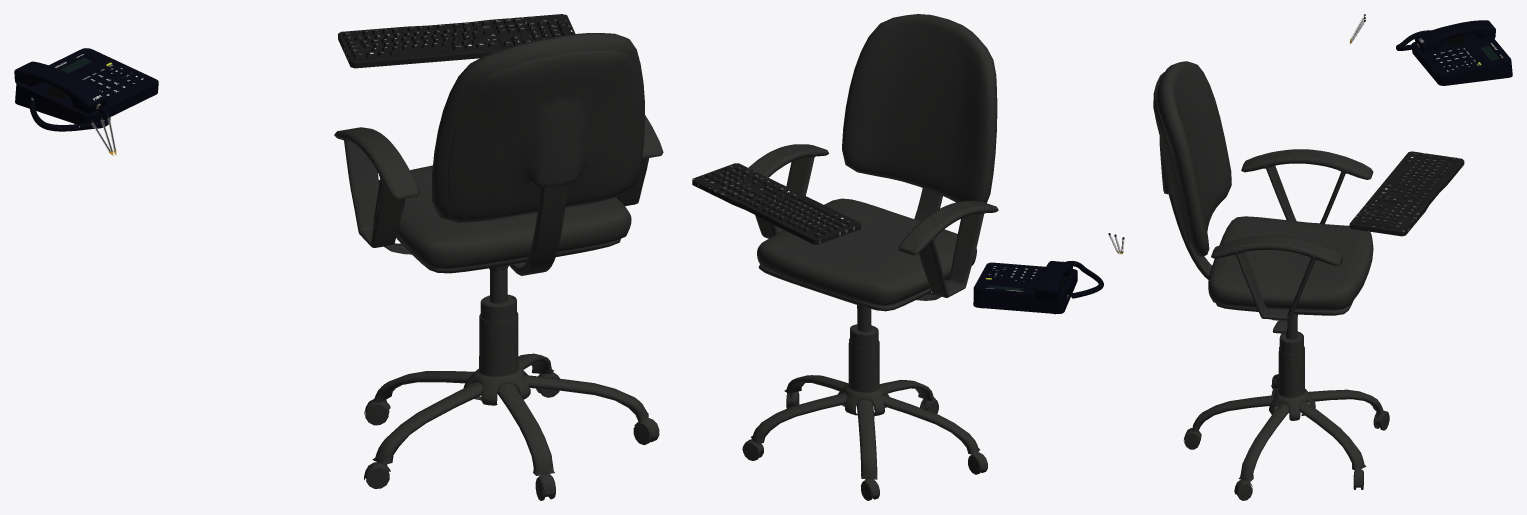
Rendered from postazioniparte7.gltf.
3 renders of one model, left to right at view 1: azimuth 30°, elevation 25°; view 2: azimuth 150°, elevation 25°; view 3: azimuth 270°, elevation 25°, orthographic. The views are drawn at different scales.
Parts seen in each view (by area): view 1: Lorenzo Sedia, Lorenzo Telefono, Lorenzo Tastiera; view 2: Lorenzo Sedia, Lorenzo Tastiera, Lorenzo Telefono; view 3: Lorenzo Sedia, Lorenzo Tastiera, Lorenzo Telefono.
Part boxes in pixels (bbox=[...]): Lorenzo Sedia: bbox=[334, 33, 663, 500]; Lorenzo Telefono: bbox=[14, 48, 158, 131]; Lorenzo Tastiera: bbox=[338, 14, 575, 68]; Lorenzo Sedia: bbox=[742, 14, 998, 500]; Lorenzo Tastiera: bbox=[692, 163, 860, 244]; Lorenzo Telefono: bbox=[973, 261, 1103, 314]; Lorenzo Sedia: bbox=[1153, 61, 1389, 500]; Lorenzo Tastiera: bbox=[1349, 151, 1464, 236]; Lorenzo Telefono: bbox=[1396, 20, 1512, 85].
Bounding box in the file's own units: 1.15 × 1.01 × 0.8837.
7 materials, 3 textured.
